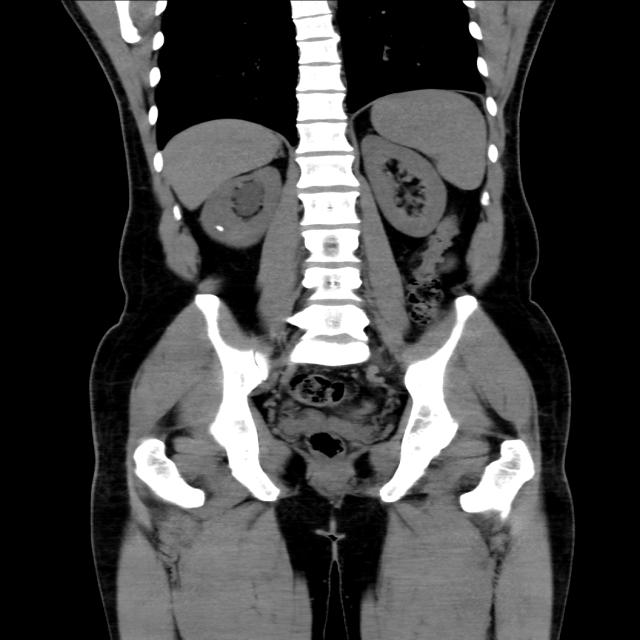kidneystone: (215, 225, 224, 231)
